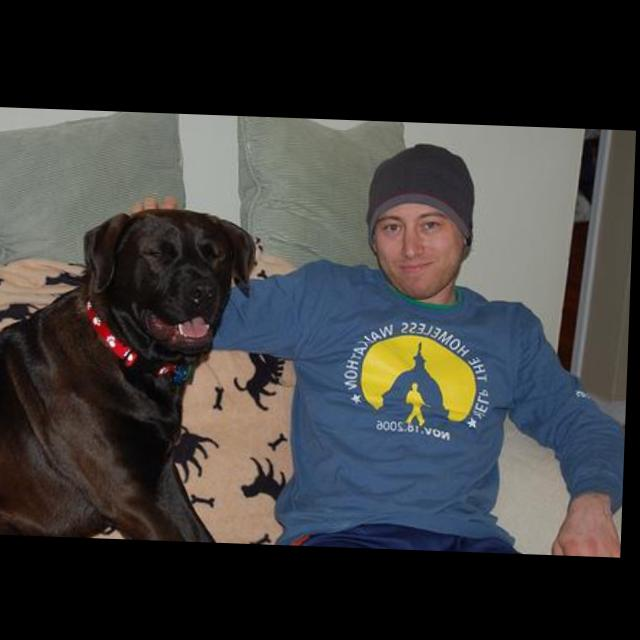face: (377, 198, 468, 295)
person: (125, 130, 637, 553)
rottweiler: (1, 200, 293, 543)
